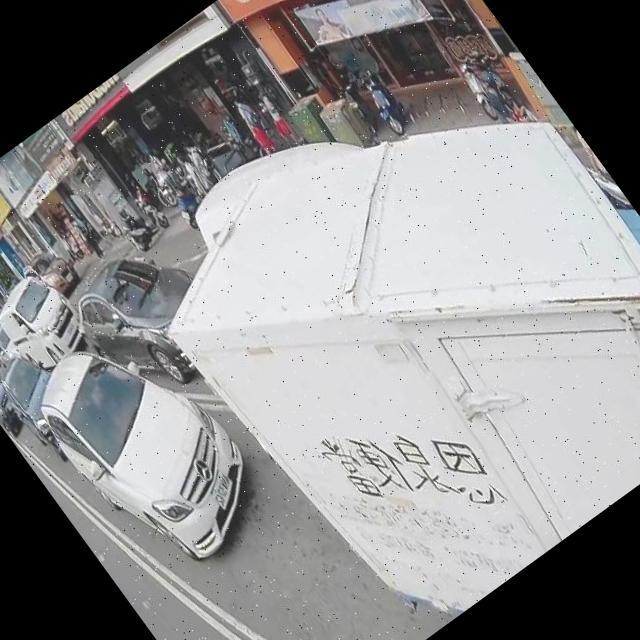person: (552, 107, 633, 213), (469, 59, 527, 127), (226, 90, 282, 158), (250, 84, 302, 150), (140, 145, 187, 202), (170, 146, 213, 198), (184, 140, 224, 187), (69, 212, 106, 259), (225, 76, 253, 108)
